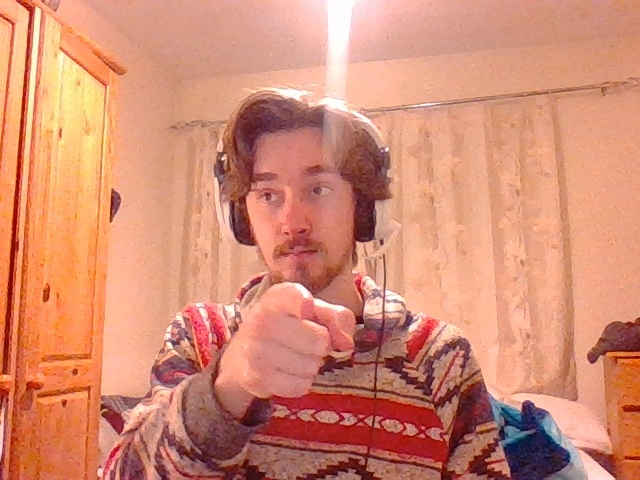you: (241, 281, 355, 400)
